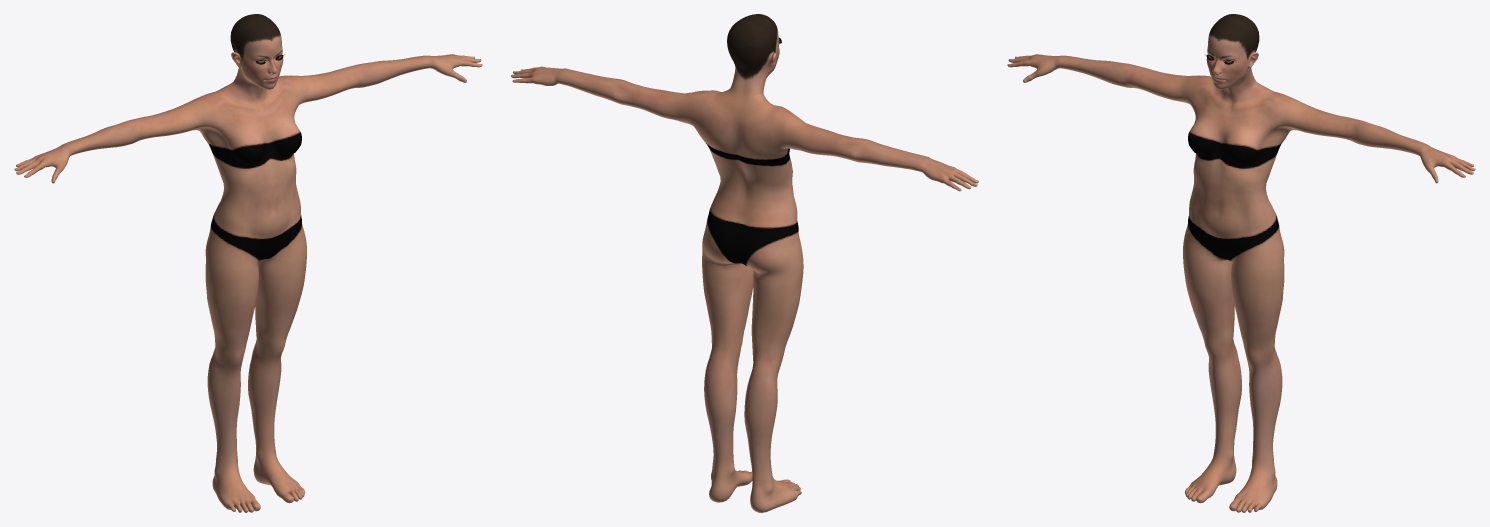
The model's file is Female.obj.
The picture shows the model from 3 angles, left to right: view 1: azimuth 30°, elevation 25°; view 2: azimuth 150°, elevation 25°; view 3: azimuth 330°, elevation 25°; orthographic projection.
Visible parts, largest first — view 1: Body; view 2: Body; view 3: Body.
Boxes of the visible parts, x1,y1,x2,y2 form: Body: (14,14,482,512); Body: (511,14,978,512); Body: (1007,14,1475,512).
Bounding box in the file's own units: 179 × 177 × 26.57.
Materials: 1 (1 with a texture image).
